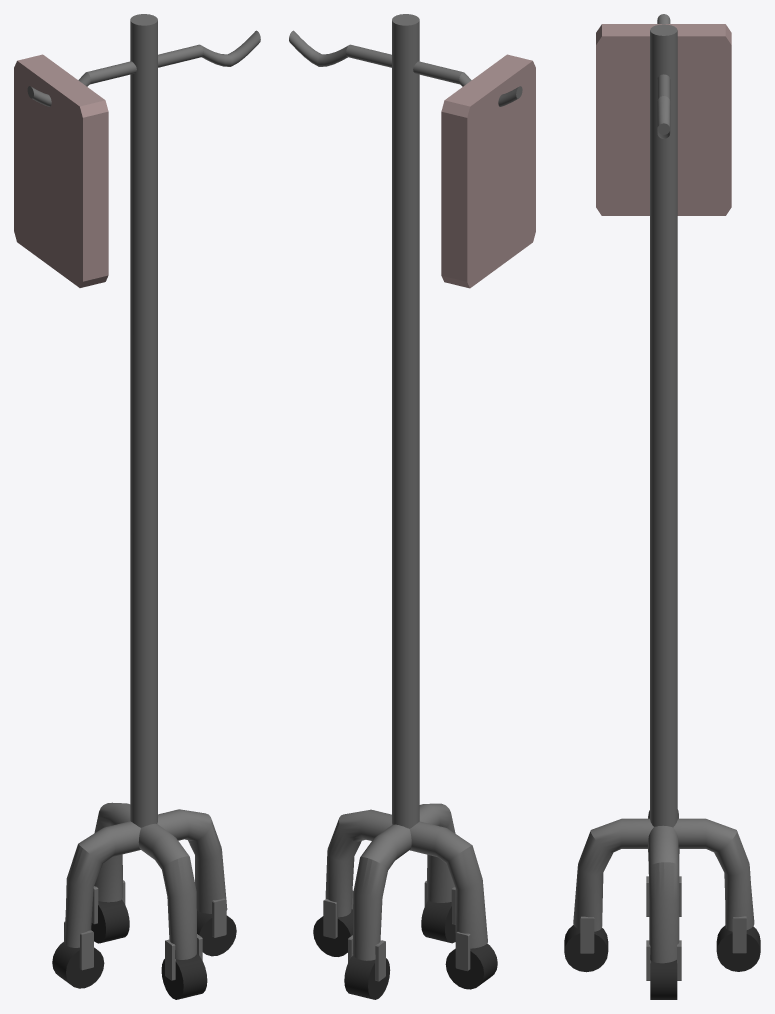
The model's file is IV Drip.fbx.
The picture shows the model from 3 angles, left to right: view 1: azimuth 30°, elevation 25°; view 2: azimuth 150°, elevation 25°; view 3: azimuth 270°, elevation 25°; orthographic projection.
Visible parts, largest first — view 1: pasted__pasted__pCylinder8, pCube2; view 2: pasted__pasted__pCylinder8, pCube2; view 3: pasted__pasted__pCylinder8, pCube2.
Part boxes in pixels (box(x1,y1,x2,y2)): pasted__pasted__pCylinder8: box(27, 14, 260, 999); pCube2: box(14, 54, 108, 287); pasted__pasted__pCylinder8: box(289, 14, 522, 999); pCube2: box(441, 54, 535, 288); pasted__pasted__pCylinder8: box(564, 14, 760, 999); pCube2: box(596, 24, 731, 215).
Size of the model in its own units: 2.97 by 11.85 by 2.25.
